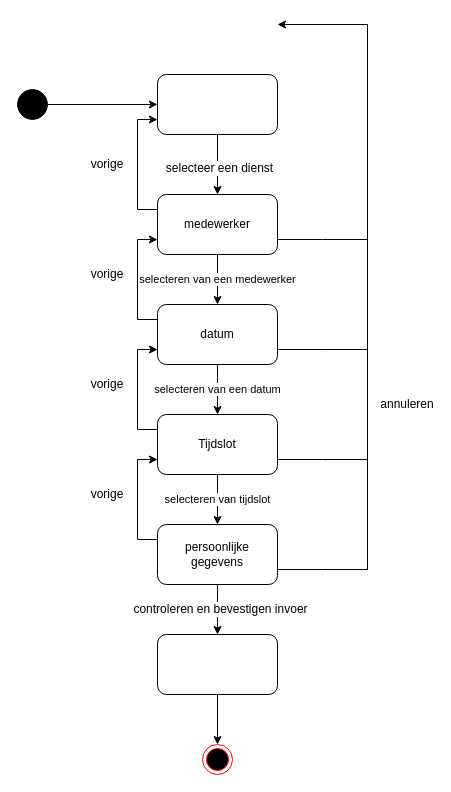
Image size: 451x792. Some labels were removed from this diagram. The shapes that lost their labels are listed below. From the top down, each one's centre as x and y in pixels, then its label:
At (217,104): "diensten".
At (217,664): "bevestigd".
